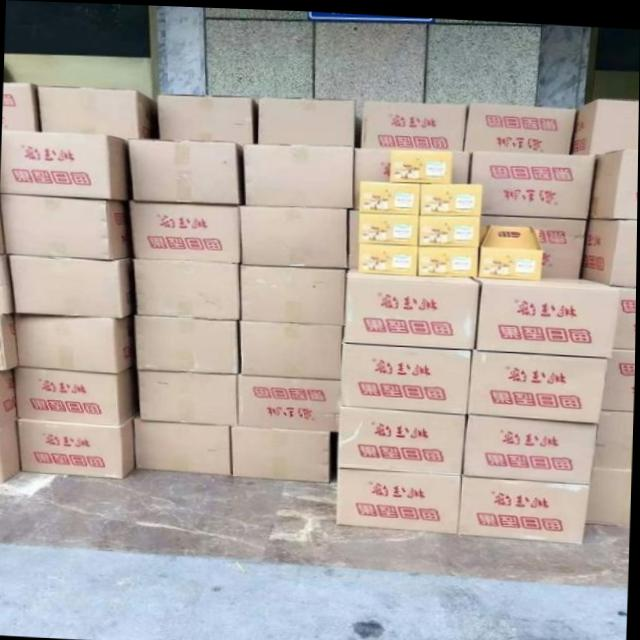box: (475, 272, 619, 353), (345, 265, 478, 345), (469, 347, 609, 419), (463, 412, 599, 480), (341, 342, 471, 411), (460, 472, 590, 538), (338, 404, 466, 471), (1, 131, 128, 198), (2, 194, 129, 258), (471, 148, 594, 214), (336, 465, 462, 529), (11, 255, 134, 316), (14, 363, 136, 423), (20, 413, 136, 476), (16, 312, 135, 372), (128, 140, 242, 202), (244, 143, 354, 206), (480, 213, 589, 275), (130, 199, 240, 260), (240, 204, 348, 266), (38, 84, 160, 138), (135, 258, 240, 318), (240, 263, 348, 321), (135, 413, 233, 474), (135, 314, 239, 370), (241, 319, 343, 376), (465, 99, 577, 150), (239, 373, 342, 428), (138, 369, 238, 424), (233, 425, 331, 478), (360, 98, 466, 147), (158, 94, 258, 143), (258, 95, 355, 143), (570, 94, 639, 151), (583, 214, 638, 281), (479, 221, 543, 276), (589, 144, 639, 213), (586, 463, 631, 521), (393, 146, 470, 179), (593, 405, 633, 464), (354, 145, 391, 205), (360, 177, 421, 211), (390, 147, 453, 179), (602, 345, 635, 406), (418, 212, 482, 243), (2, 82, 41, 132), (421, 180, 482, 211), (359, 210, 418, 241), (419, 242, 478, 273), (359, 241, 417, 271), (613, 282, 637, 345), (0, 417, 20, 482), (0, 312, 19, 371), (0, 368, 18, 427), (0, 253, 13, 315)
